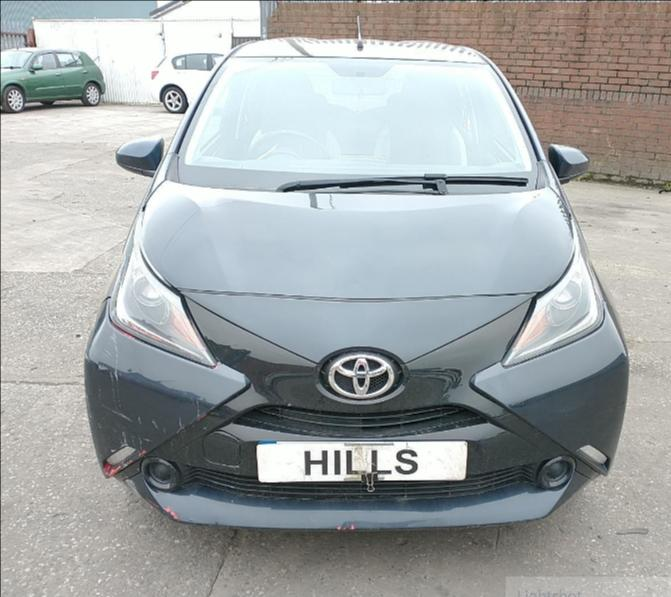Dent: (338, 520, 426, 531), (96, 360, 108, 372)
Paint chip: (112, 322, 137, 341), (101, 460, 121, 477), (164, 505, 181, 521), (146, 498, 160, 509), (336, 523, 355, 530), (122, 459, 134, 468), (196, 412, 206, 421), (139, 448, 147, 456), (287, 402, 293, 407), (202, 425, 208, 430), (125, 478, 129, 482), (214, 365, 218, 369)
Scratch: (113, 335, 122, 410), (102, 405, 133, 422), (123, 479, 143, 498), (84, 394, 94, 421), (109, 370, 115, 406), (176, 414, 184, 435), (109, 331, 116, 345), (150, 419, 159, 429), (122, 431, 128, 446), (137, 436, 141, 457), (84, 352, 90, 365), (137, 414, 143, 426), (104, 348, 113, 355), (102, 351, 110, 358), (196, 401, 199, 418), (118, 443, 125, 450), (132, 436, 136, 448), (98, 386, 101, 400), (107, 342, 114, 348), (162, 426, 166, 436), (142, 438, 151, 442), (109, 449, 117, 453)
